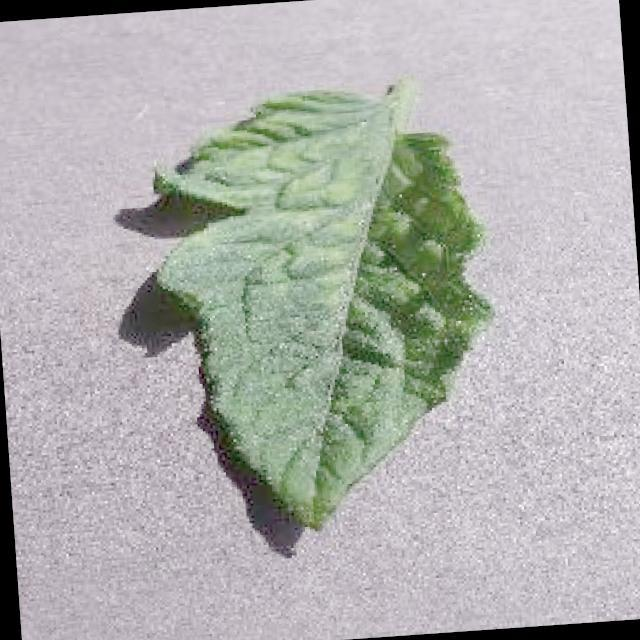Tomato mosaic virus leaf: (138, 79, 511, 542)
